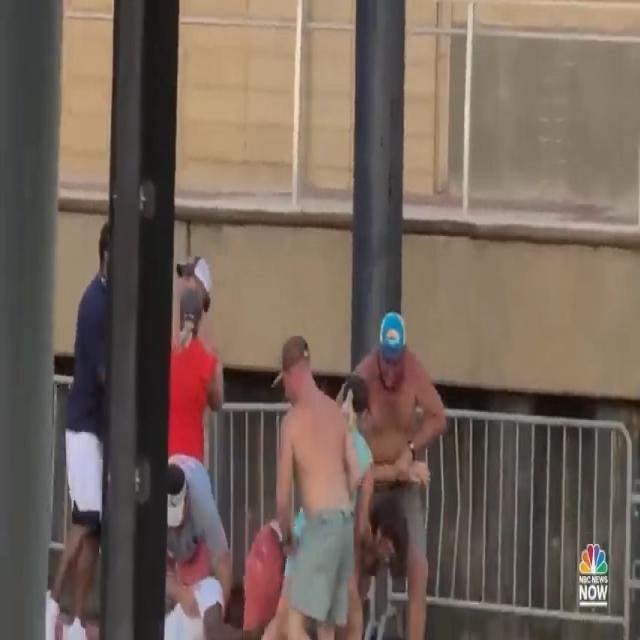fight: (58, 203, 456, 640)
